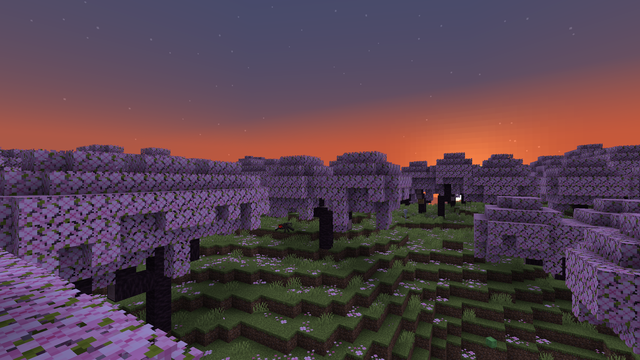araignees: (275, 221, 293, 232)
slimes: (486, 335, 494, 347)
squelettes: (403, 209, 407, 222)
